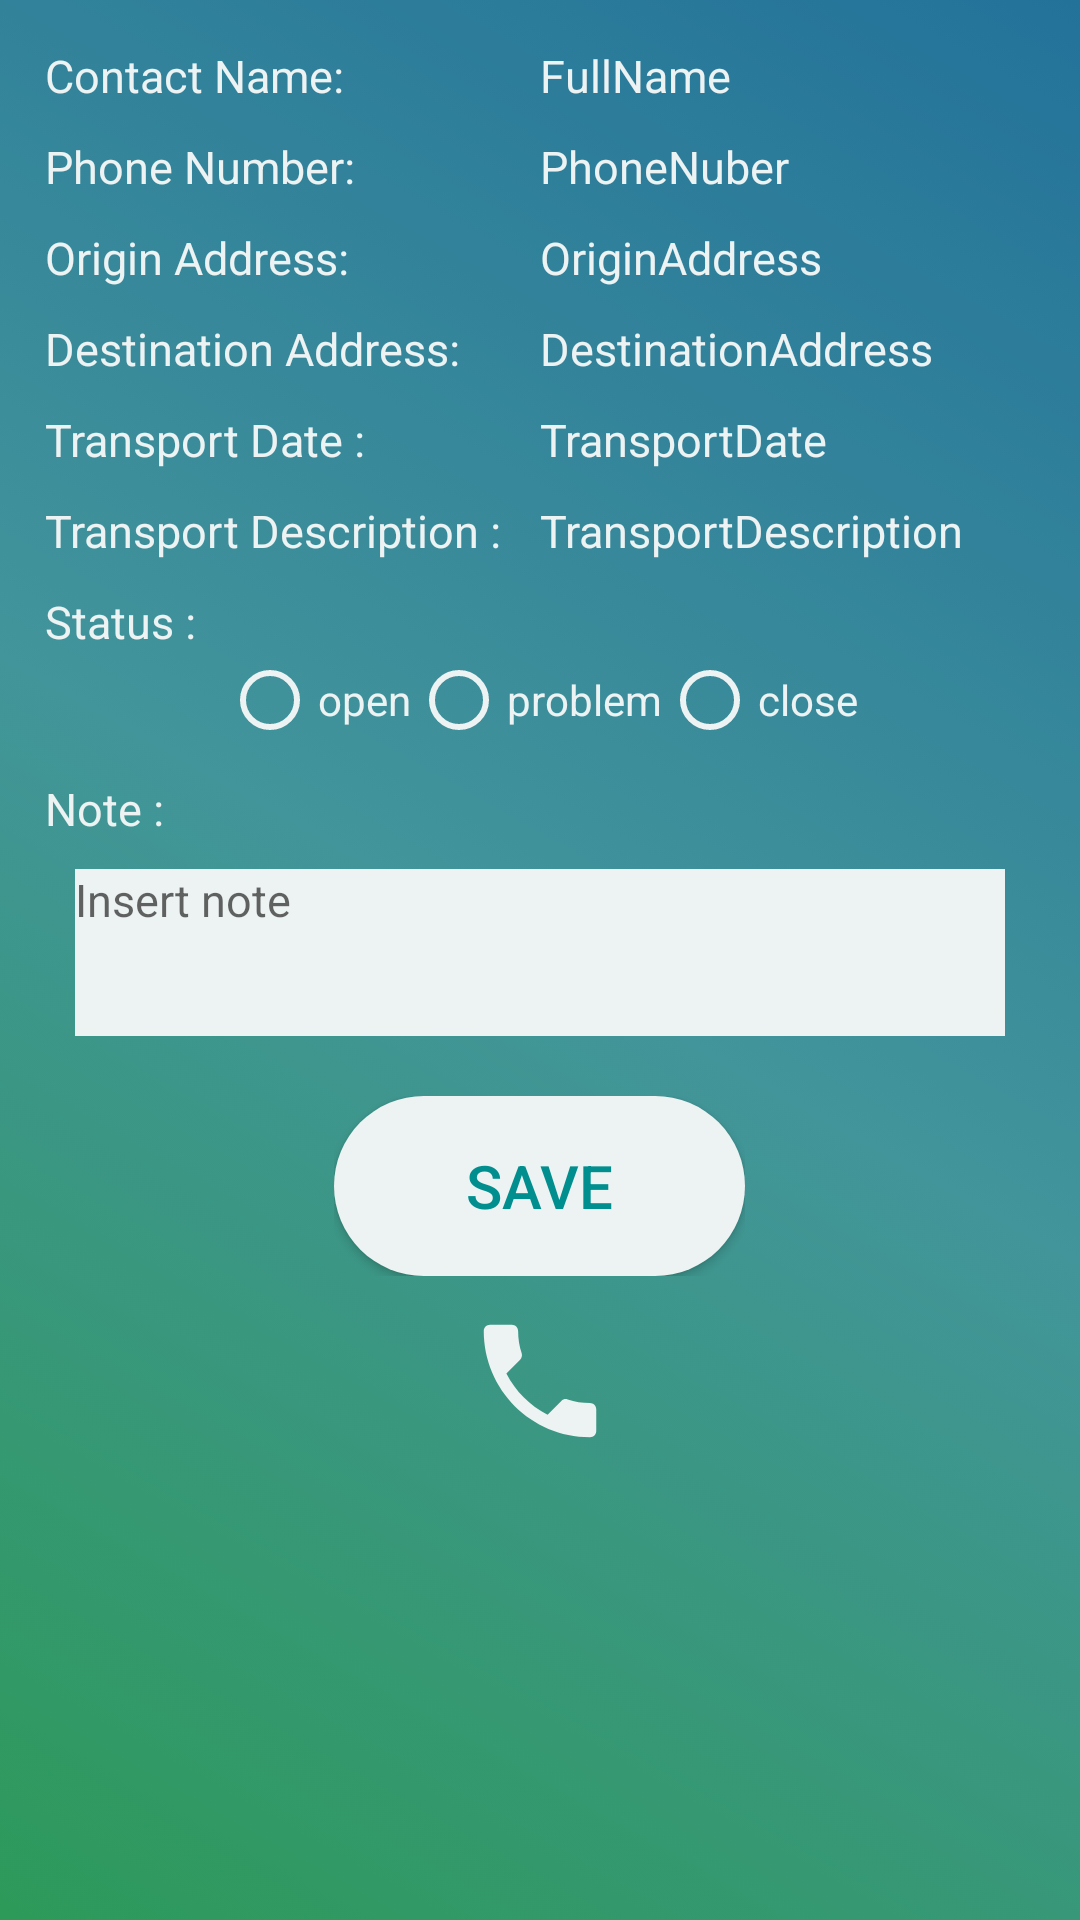

Screen size 1080×1920. Icon name, then its center in pixels as point (x, y):
phone: point (540, 1381)
